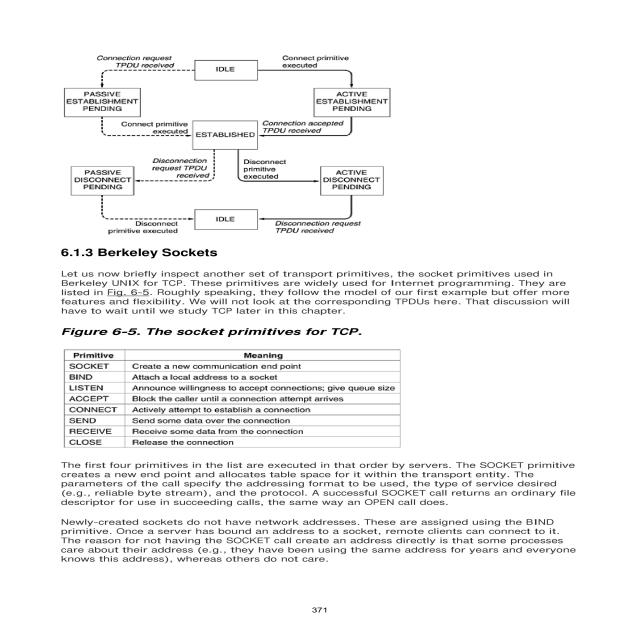diagram: (59, 34, 466, 241)
